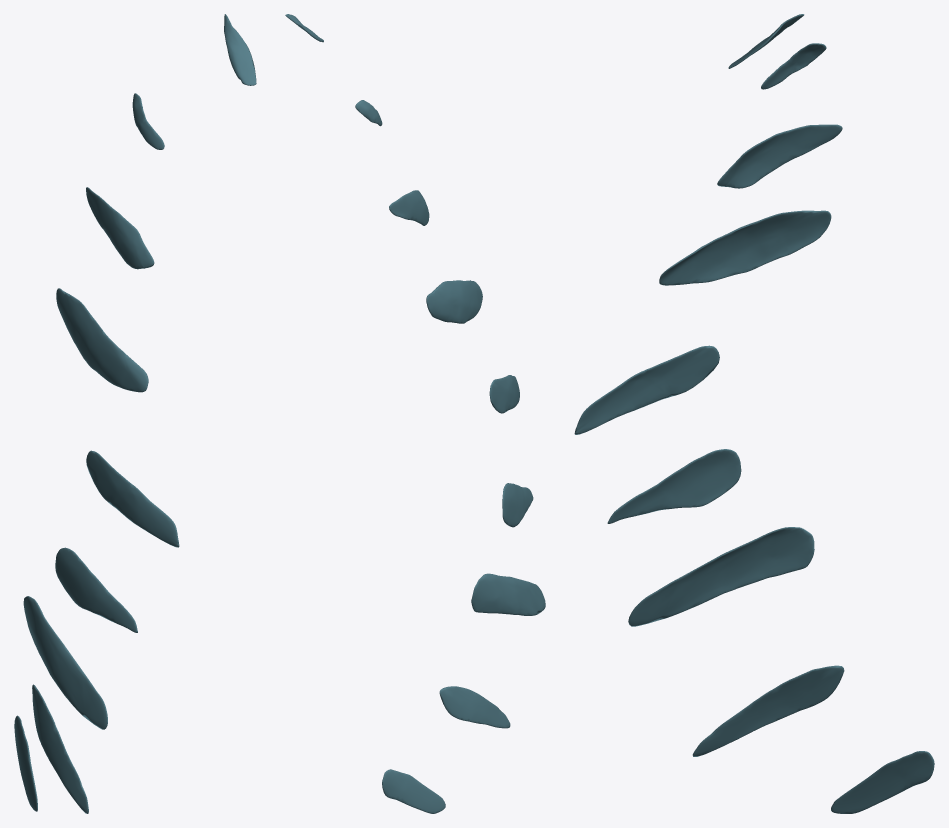
Rendered from Serratus_anterior_muscle-Thoracic_insertions.r_Generated_Mesh_F.glb.
3 views of the same model, side by side, from view 1: azimuth 30°, elevation 25°; view 2: azimuth 150°, elevation 25°; view 3: azimuth 270°, elevation 25° (orthographic). The views are drawn at different scales.
Parts seen in each view (by area): view 1: Serratus_anterior_muscle-Thoracic_insertions.r_Generated_Mes; view 2: Serratus_anterior_muscle-Thoracic_insertions.r_Generated_Mes; view 3: Serratus_anterior_muscle-Thoracic_insertions.r_Generated_Mes.
Boxes of the visible parts, x1=… form: Serratus_anterior_muscle-Thoracic_insertions.r_Generated_Mes: x1=14, y1=14, x2=256, y2=813; Serratus_anterior_muscle-Thoracic_insertions.r_Generated_Mes: x1=285, y1=14, x2=545, y2=813; Serratus_anterior_muscle-Thoracic_insertions.r_Generated_Mes: x1=574, y1=14, x2=934, y2=813.
Size of the model in its own units: 0.0773 by 0.266 by 0.0964.
